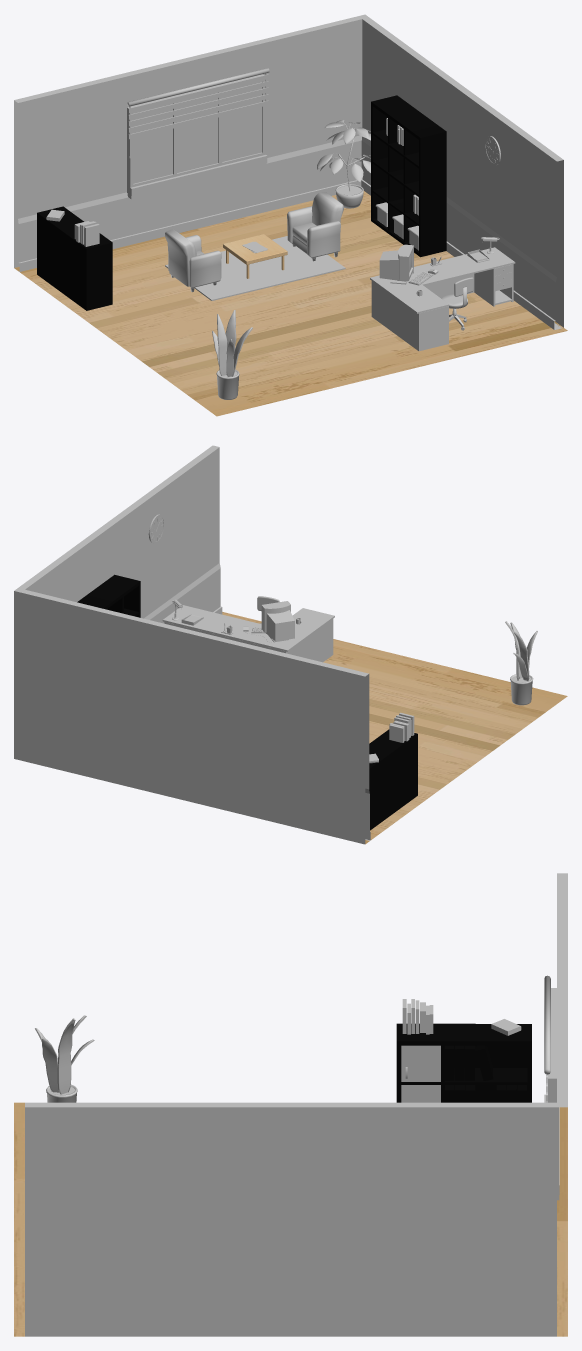
Rendered from Office.fbx.
The picture shows the model from 3 angles, top to bottom: view 1: azimuth 30°, elevation 25°; view 2: azimuth 150°, elevation 25°; view 3: azimuth 270°, elevation 25°; orthographic projection. The views are drawn at different scales.
Parts seen in each view (by area): view 1: Wall_1_GEO, Floor_GEO, Wall_4_GEO, Shelf_GEO, Desk_GEO, DocumentShelf_GEO, Rug_GEO, Armchair_2_GEO, Armchair_1_GEO, FlowerPot_GEO, Plant1_GEO, Table_GEO (+2 smaller); view 2: Wall_1_GEO, Wall_4_GEO, Floor_GEO, DocumentShelf_GEO, Desk_GEO, Shelf_GEO, Plant1_GEO, Monitor_GEO; view 3: Wall_4_GEO, DocumentShelf_GEO, Floor_GEO, Wall_1_GEO, Plant1_GEO.
Part boxes in pixels (x1,y1,x2,y2): Wall_1_GEO: (14,14,368,271); Floor_GEO: (14,191,567,416); Wall_4_GEO: (361,17,563,329); Shelf_GEO: (371,95,446,257); Desk_GEO: (370,247,515,351); DocumentShelf_GEO: (37,206,112,310); Rug_GEO: (165,236,345,300); Armchair_2_GEO: (287,192,343,261); Armchair_1_GEO: (165,229,221,292); FlowerPot_GEO: (317,119,370,208); Plant1_GEO: (212,310,252,399); Table_GEO: (223,234,287,278); Wall_1_GEO: (14,588,370,844); Wall_4_GEO: (18,445,222,623); Floor_GEO: (222,612,567,843); DocumentShelf_GEO: (369,712,417,830); Desk_GEO: (162,605,334,662); Shelf_GEO: (77,574,140,617); Plant1_GEO: (505,621,537,705); Monitor_GEO: (261,601,294,642); Wall_4_GEO: (25,1102,556,1336); DocumentShelf_GEO: (396,999,531,1102); Floor_GEO: (14,1102,567,1336); Wall_1_GEO: (544,873,567,1200); Plant1_GEO: (35,1015,94,1102).
Size of the model in its own units: 7 by 3.2 by 7.
